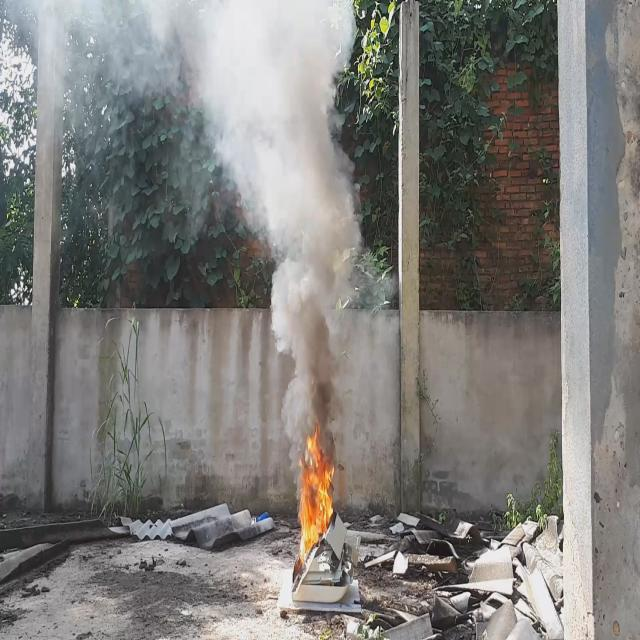Fire: (298, 422, 336, 570)
Smoke: (0, 0, 366, 485)
